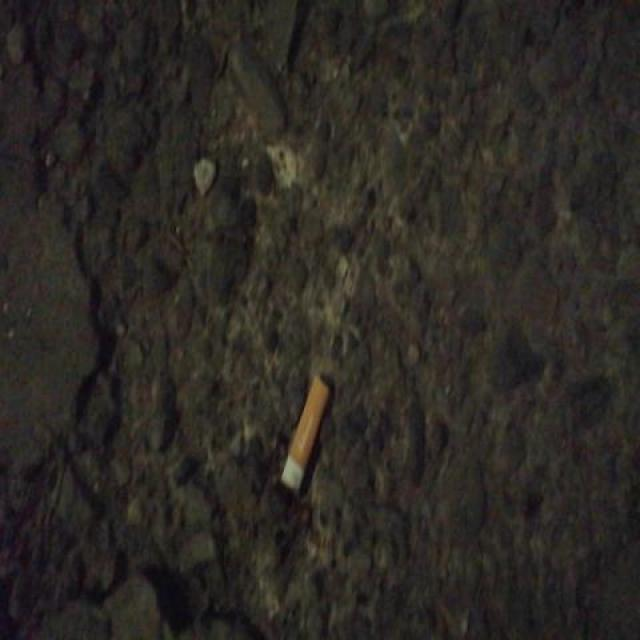non-organic waste: (276, 368, 332, 496)
